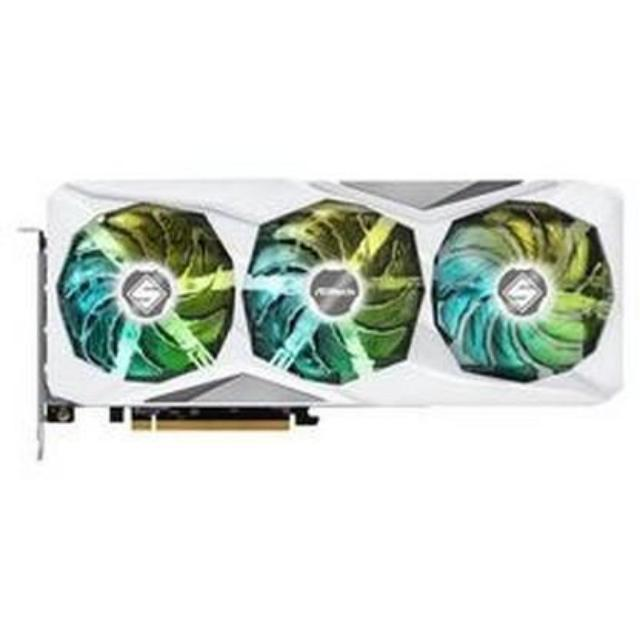GPU: (18, 157, 640, 428)
